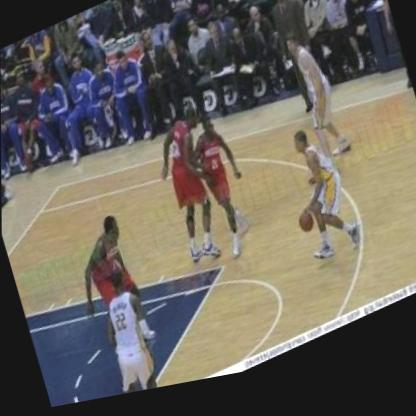basketball: (292, 213, 318, 250)
